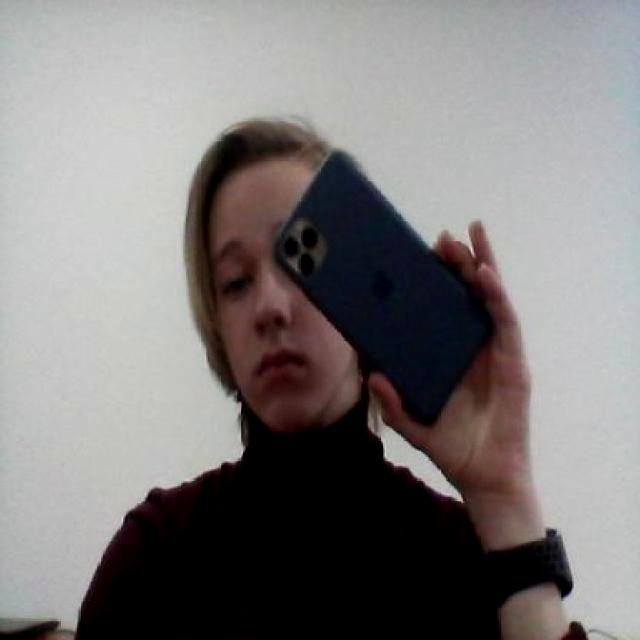phone: (264, 132, 506, 434)
